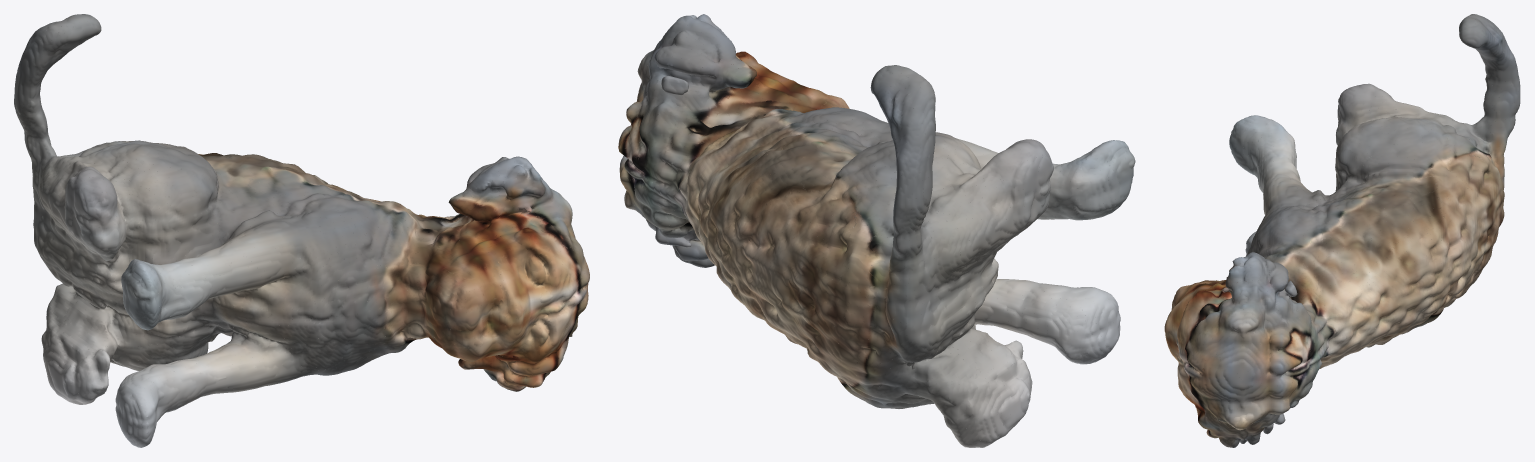
The picture shows the model from 3 angles, left to right: view 1: azimuth 30°, elevation 25°; view 2: azimuth 150°, elevation 25°; view 3: azimuth 270°, elevation 25°; orthographic projection. The views are drawn at different scales.
Size of the model in its own units: 0.929 by 0.7013 by 0.7602.
Materials: 1 (1 with a texture image).
